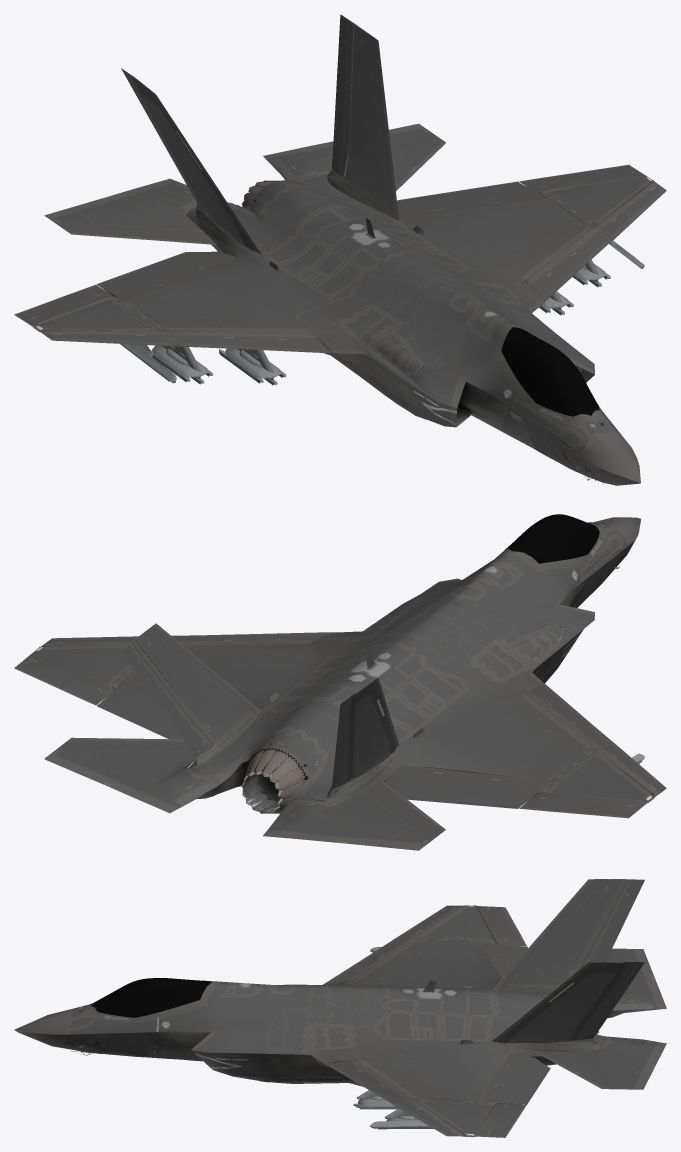
3 views of the same model, one above another, from view 1: azimuth 30°, elevation 25°; view 2: azimuth 150°, elevation 25°; view 3: azimuth 270°, elevation 25° (orthographic). The views are drawn at different scales.
Visible parts, largest first — view 1: f35c-airframe, f35c-canopy, f35c-spw3-8agm-rail, f35c-refuelOff; view 2: f35c-airframe, f35c-canopy, f35c-refuelOff; view 3: f35c-airframe, f35c-canopy, f35c-spw3-8agm-rail.
Part boxes in pixels (x1=…): f35c-airframe: x1=14, y1=14, x2=666, y2=485; f35c-canopy: x1=501, y1=327, x2=599, y2=416; f35c-spw3-8agm-rail: x1=150, y1=259, x2=610, y2=385; f35c-refuelOff: x1=512, y1=401, x2=580, y2=446; f35c-airframe: x1=14, y1=517, x2=666, y2=850; f35c-canopy: x1=504, y1=514, x2=599, y2=563; f35c-refuelOff: x1=581, y1=535, x2=622, y2=578; f35c-airframe: x1=14, y1=879, x2=666, y2=1137; f35c-canopy: x1=91, y1=978, x2=211, y2=1017; f35c-spw3-8agm-rail: x1=353, y1=1090, x2=433, y2=1128.
Bounding box in the file's own units: 13.23 × 4.54 × 15.82.
